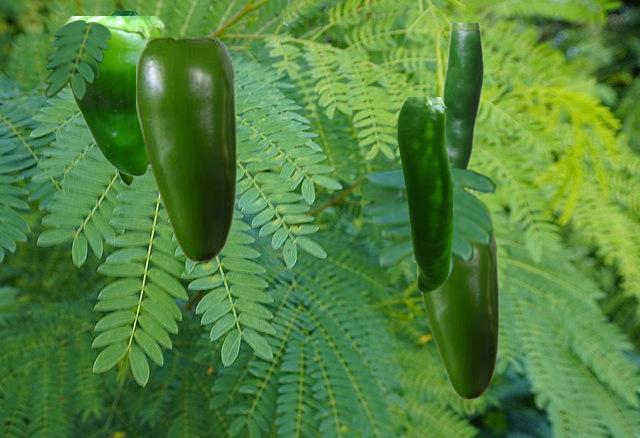green_chili: (136, 37, 236, 262), (411, 23, 482, 261), (64, 16, 165, 176), (417, 233, 498, 399), (397, 97, 451, 292), (109, 11, 141, 184)
